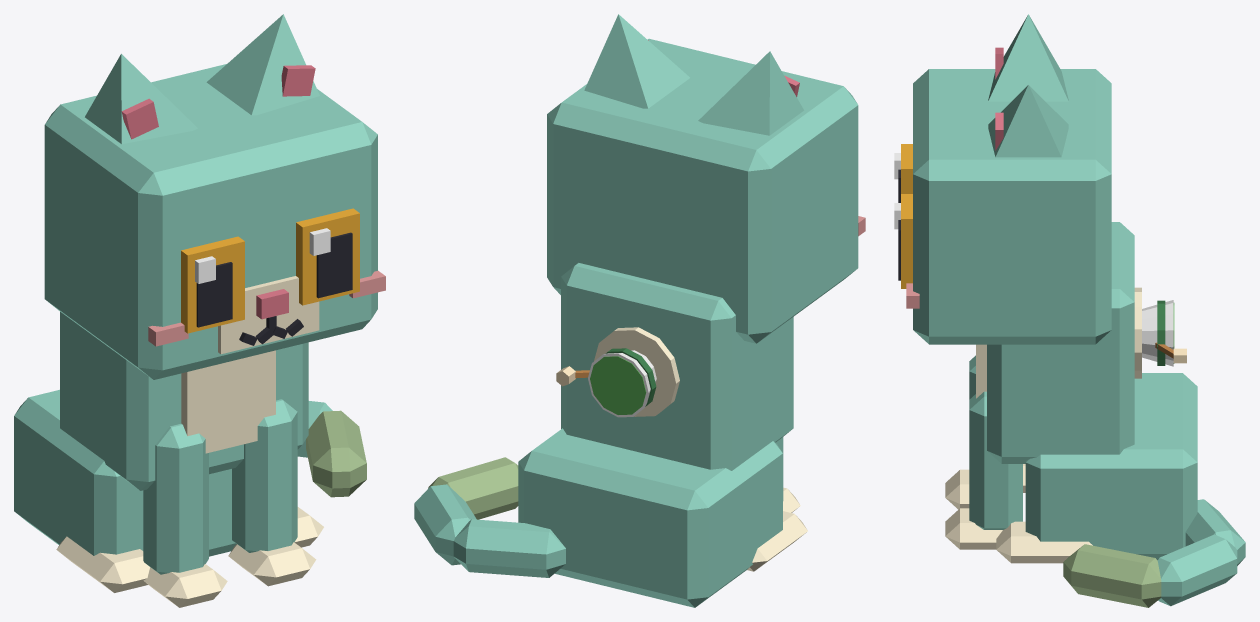
File: CatCafe_Cat_Matcha_Sit.glb
3 renders of one model, left to right at view 1: azimuth 30°, elevation 25°; view 2: azimuth 150°, elevation 25°; view 3: azimuth 270°, elevation 25°, orthographic. The views are drawn at different scales.
Visible parts, largest first — view 1: CatCafe_Cat_Matcha_Sit_Head, CatCafe_Cat_Matcha_Sit_Body, CatCafe_Cat_Matcha_Sit_LegF2, CatCafe_Cat_Matcha_Sit_LegF1, CatCafe_Cat_Matcha_Sit_EarL, CatCafe_Cat_Matcha_Sit_Eye2, CatCafe_Cat_Matcha_Sit_Eye1, CatCafe_Cat_Matcha_Sit_EarR, CatCafe_Cat_Matcha_Sit_Tail; view 2: CatCafe_Cat_Matcha_Sit_Body, CatCafe_Cat_Matcha_Sit_Head, CatCafe_Cat_Matcha_Sit_Tail, CatCafe_Cat_Matcha_Sit_Prop, CatCafe_Cat_Matcha_Sit_EarL, CatCafe_Cat_Matcha_Sit_EarR; view 3: CatCafe_Cat_Matcha_Sit_Head, CatCafe_Cat_Matcha_Sit_Body, CatCafe_Cat_Matcha_Sit_Tail, CatCafe_Cat_Matcha_Sit_LegF1, CatCafe_Cat_Matcha_Sit_EarL, CatCafe_Cat_Matcha_Sit_EarR, CatCafe_Cat_Matcha_Sit_Prop, CatCafe_Cat_Matcha_Sit_Eye1, CatCafe_Cat_Matcha_Sit_LegF2, CatCafe_Cat_Matcha_Sit_Eye2.
Part boxes in pixels (x1,y1,x2,y2): CatCafe_Cat_Matcha_Sit_Head: (44,64,385,379); CatCafe_Cat_Matcha_Sit_Body: (14,312,323,592); CatCafe_Cat_Matcha_Sit_LegF2: (143,423,227,607); CatCafe_Cat_Matcha_Sit_LegF1: (228,399,316,586); CatCafe_Cat_Matcha_Sit_EarL: (206,14,319,115); CatCafe_Cat_Matcha_Sit_Eye2: (181,236,244,333); CatCafe_Cat_Matcha_Sit_Eye1: (296,208,359,305); CatCafe_Cat_Matcha_Sit_EarR: (85,54,197,144); CatCafe_Cat_Matcha_Sit_Tail: (297,401,366,497); CatCafe_Cat_Matcha_Sit_Body: (518,263,807,607); CatCafe_Cat_Matcha_Sit_Head: (547,38,865,343); CatCafe_Cat_Matcha_Sit_Tail: (414,457,565,577); CatCafe_Cat_Matcha_Sit_Prop: (556,327,679,417); CatCafe_Cat_Matcha_Sit_EarL: (584,14,689,108); CatCafe_Cat_Matcha_Sit_EarR: (698,51,803,135); CatCafe_Cat_Matcha_Sit_Head: (906,69,1111,344); CatCafe_Cat_Matcha_Sit_Body: (976,222,1197,563); CatCafe_Cat_Matcha_Sit_Tail: (1063,499,1245,607); CatCafe_Cat_Matcha_Sit_LegF1: (945,391,1022,549); CatCafe_Cat_Matcha_Sit_EarL: (988,85,1068,157); CatCafe_Cat_Matcha_Sit_EarR: (988,14,1068,101); CatCafe_Cat_Matcha_Sit_Prop: (1134,287,1186,378); CatCafe_Cat_Matcha_Sit_Eye1: (894,194,912,288); CatCafe_Cat_Matcha_Sit_LegF2: (945,355,975,509); CatCafe_Cat_Matcha_Sit_Eye2: (894,144,912,202).
Size of the model in its own units: 1.24 by 1.85 by 1.24.
1 material, 1 textured.
